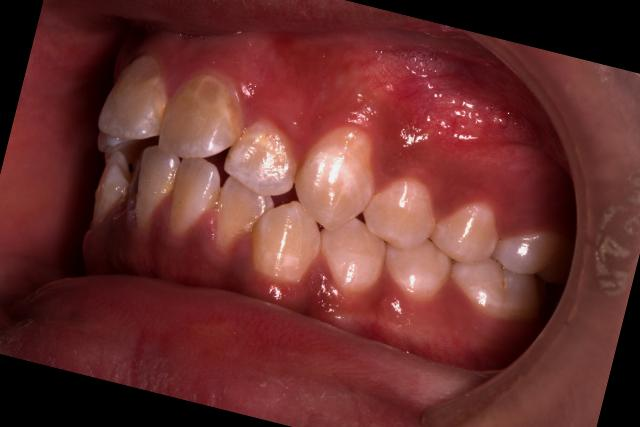canine class III 1/4: (240, 103, 416, 310)
molar class III 1/2: (439, 202, 586, 341)
